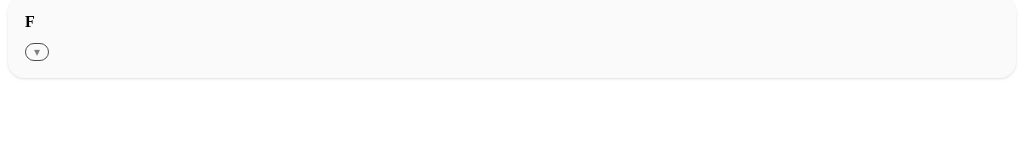
Test: MaskedCards — expansão › não controlada: expande/recolhe e sincroniza aria-expanded
Click the button named "mostrar mais".
click(37, 52)  # box [25, 43, 49, 61]
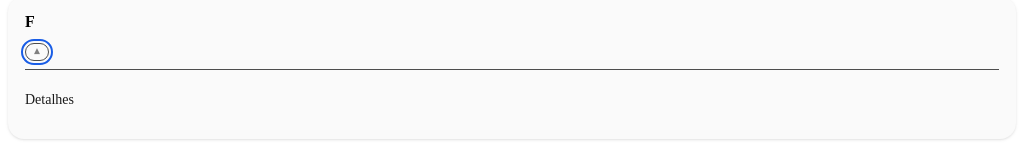
Now the button named "mostrar mais" is expanded
Now the text "Detalhes" is shown, box [25, 92, 74, 107]
Click the button named "mostrar mais".
click(37, 52)  # box [25, 43, 49, 61]
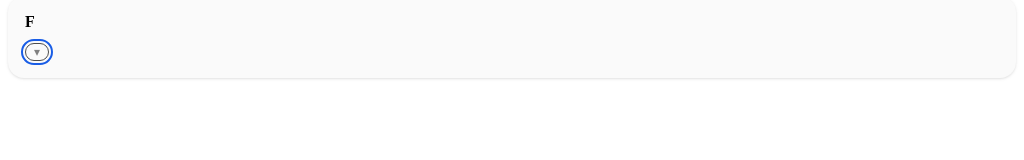
Now the button named "mostrar mais" is collapsed, box [25, 43, 49, 61]
